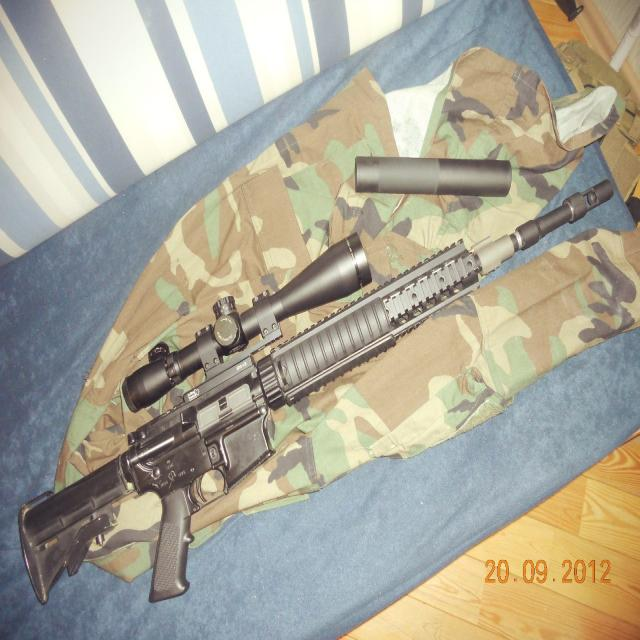firearm: (19, 177, 616, 607)
